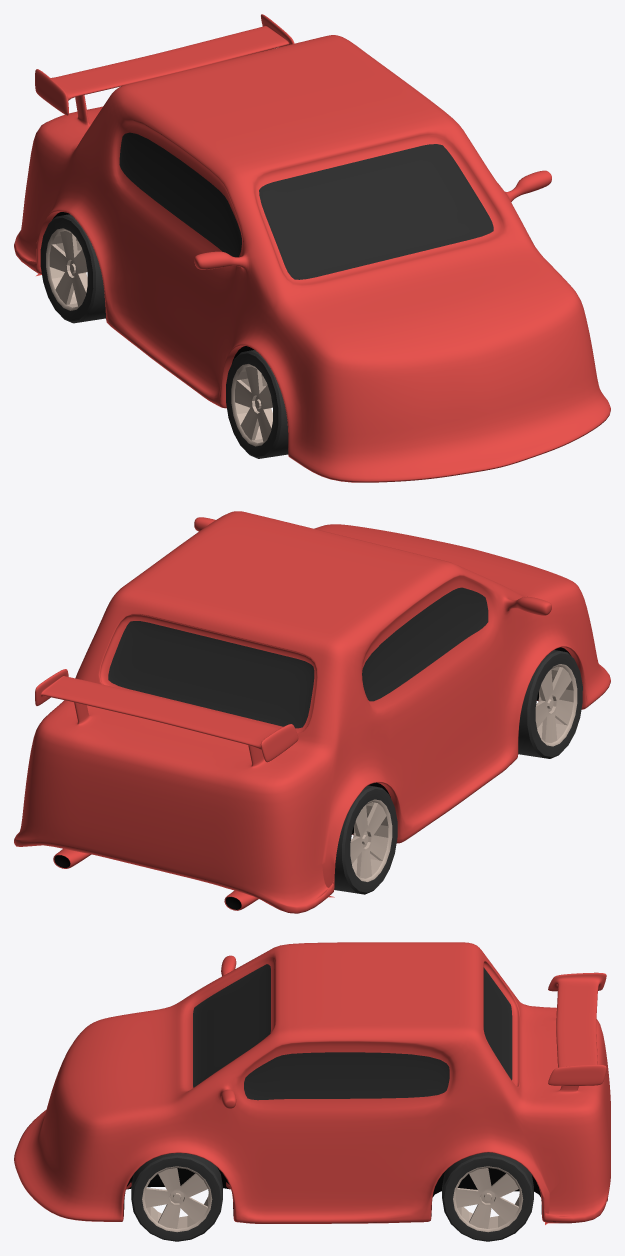
The model's file is slot_wars_car.glb.
3 views of the same model, one above another, from view 1: azimuth 30°, elevation 25°; view 2: azimuth 150°, elevation 25°; view 3: azimuth 270°, elevation 25° (orthographic). The views are drawn at different scales.
Parts seen in each view (by area): view 1: pCube1, pCylinder1.002, pCylinder1.003; view 2: pCube1, pCylinder1.003, pCylinder1.002; view 3: pCube1, pCylinder1, pCylinder1.001.
Boxes of the visible parts, x1=… form: pCube1: x1=14, y1=14, x2=610, y2=482; pCylinder1.002: x1=40, y1=214, x2=105, y2=323; pCylinder1.003: x1=226, y1=350, x2=288, y2=458; pCube1: x1=14, y1=511, x2=610, y2=913; pCylinder1.003: x1=518, y1=650, x2=582, y2=758; pCylinder1.002: x1=334, y1=785, x2=397, y2=894; pCube1: x1=14, y1=942, x2=610, y2=1224; pCylinder1: x1=131, y1=1153, x2=222, y2=1241; pCylinder1.001: x1=442, y1=1152, x2=533, y2=1241.
Bounding box in the file's own units: 8.03 × 5.06 × 13.97.
